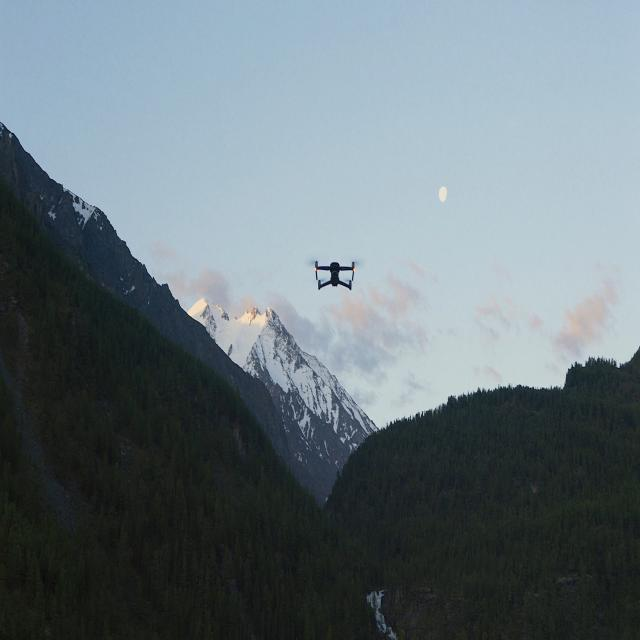Drone: (310, 247, 358, 292)
